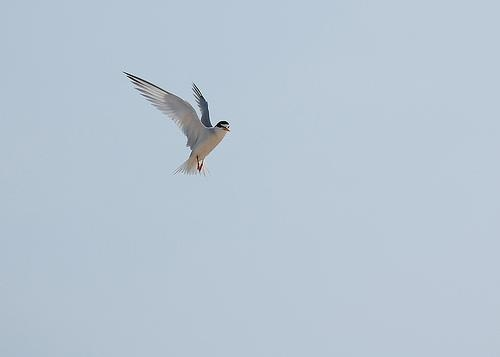bird: (116, 69, 238, 179)
